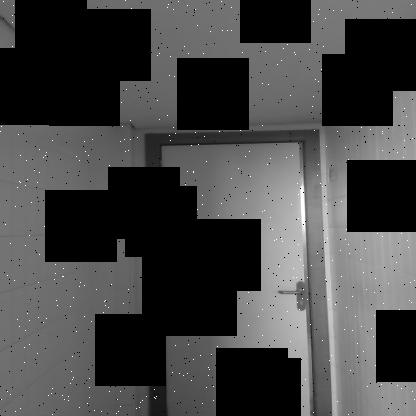Porte: (140, 126, 335, 416)
